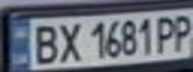1: (84, 18, 109, 60), (136, 15, 157, 55)
6: (103, 17, 124, 59)
8: (121, 16, 139, 56)
B: (27, 20, 63, 65)
P: (154, 11, 181, 53), (172, 11, 193, 52)
X: (54, 19, 84, 63)
